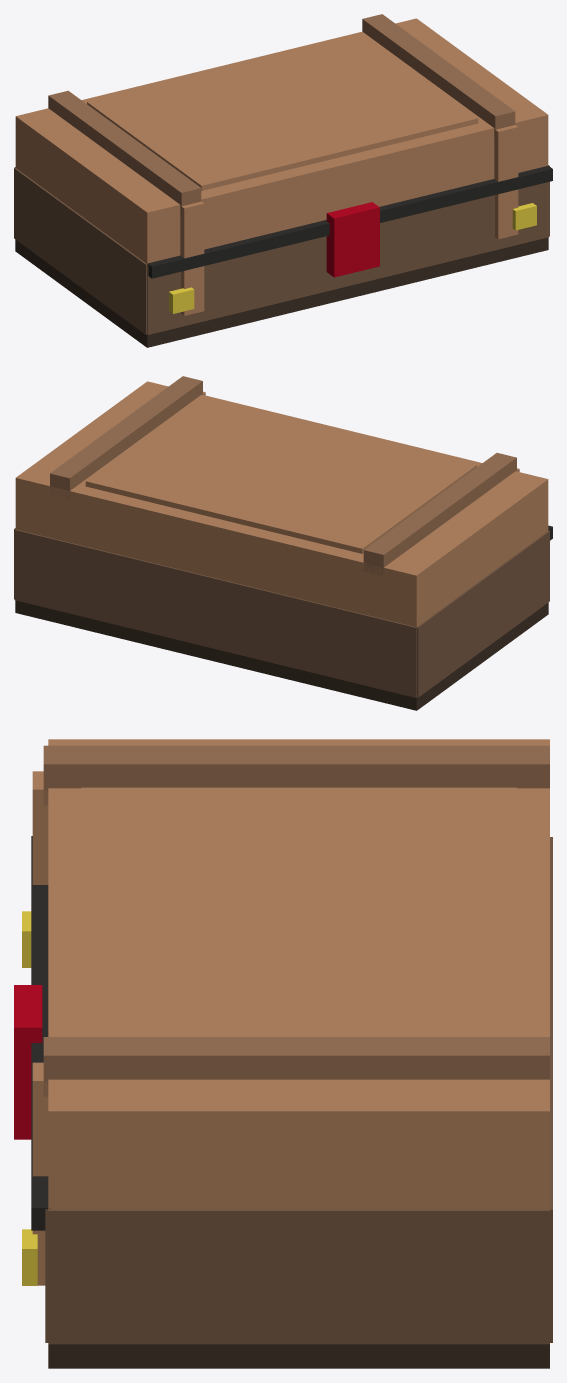
Rendered from CMU3DUtilityRMCGunCasePistolM44CustomCloud.glb.
3 renders of one model, top to bottom at view 1: azimuth 30°, elevation 25°; view 2: azimuth 150°, elevation 25°; view 3: azimuth 270°, elevation 25°, orthographic. The views are drawn at different scales.
Parts seen in each view (by area): view 1: solid closed wooden lid, lid inset tan field, structural end wall -1, structural side wall -1, structural bottom pan, front dark lid seam, raised tan lid binding -0.221, raised tan lid binding 0.219, red center catch, front tan binding return 0.219, front tan binding return -0.221, brass corner stud -0.24 (+1 smaller); view 2: solid closed wooden lid, lid inset tan field, structural end wall 1, structural side wall -1, structural bottom pan, raised tan lid binding -0.221, raised tan lid binding 0.219; view 3: lid inset tan field, solid closed wooden lid, structural side wall 1, raised tan lid binding -0.221, raised tan lid binding 0.219, structural bottom pan, front dark lid seam, red center catch, front tan binding return 0.219, front tan binding return -0.221, structural end wall 1, brass corner stud 0.24.
Part boxes in pixels (box(x1,y1,x2,y2)): solid closed wooden lid: box(15, 18, 548, 263); lid inset tan field: box(87, 34, 478, 190); structural end wall -1: box(147, 182, 549, 334); structural side wall -1: box(14, 168, 147, 334); structural bottom pan: box(15, 237, 548, 347); front dark lid seam: box(147, 165, 552, 278); raised tan lid binding -0.221: box(48, 90, 201, 214); raised tan lid binding 0.219: box(362, 14, 515, 137); red center catch: box(326, 202, 379, 277); front tan binding return 0.219: box(494, 125, 518, 239); front tan binding return -0.221: box(180, 201, 204, 315); brass corner stud -0.24: box(169, 287, 194, 313); solid closed wooden lid: box(15, 381, 548, 626); lid inset tan field: box(85, 397, 476, 553); structural end wall 1: box(14, 529, 417, 697); structural side wall -1: box(416, 530, 549, 697); structural bottom pan: box(15, 600, 548, 710); raised tan lid binding -0.221: box(363, 453, 516, 576); raised tan lid binding 0.219: box(50, 376, 202, 499); lid inset tan field: box(81, 787, 516, 1036); solid closed wooden lid: box(48, 739, 549, 1209); structural side wall 1: box(48, 1209, 549, 1344); raised tan lid binding -0.221: box(43, 745, 549, 805); raised tan lid binding 0.219: box(43, 1037, 549, 1096); structural bottom pan: box(48, 1344, 549, 1368); front dark lid seam: box(31, 836, 50, 1230); red center catch: box(14, 985, 42, 1139); front tan binding return 0.219: box(32, 1062, 48, 1285); front tan binding return -0.221: box(32, 771, 48, 884); structural end wall 1: box(550, 837, 552, 1342); brass corner stud 0.24: box(22, 1229, 37, 1285).
Size of the model in its own units: 0.5665 by 0.198 by 0.344.
